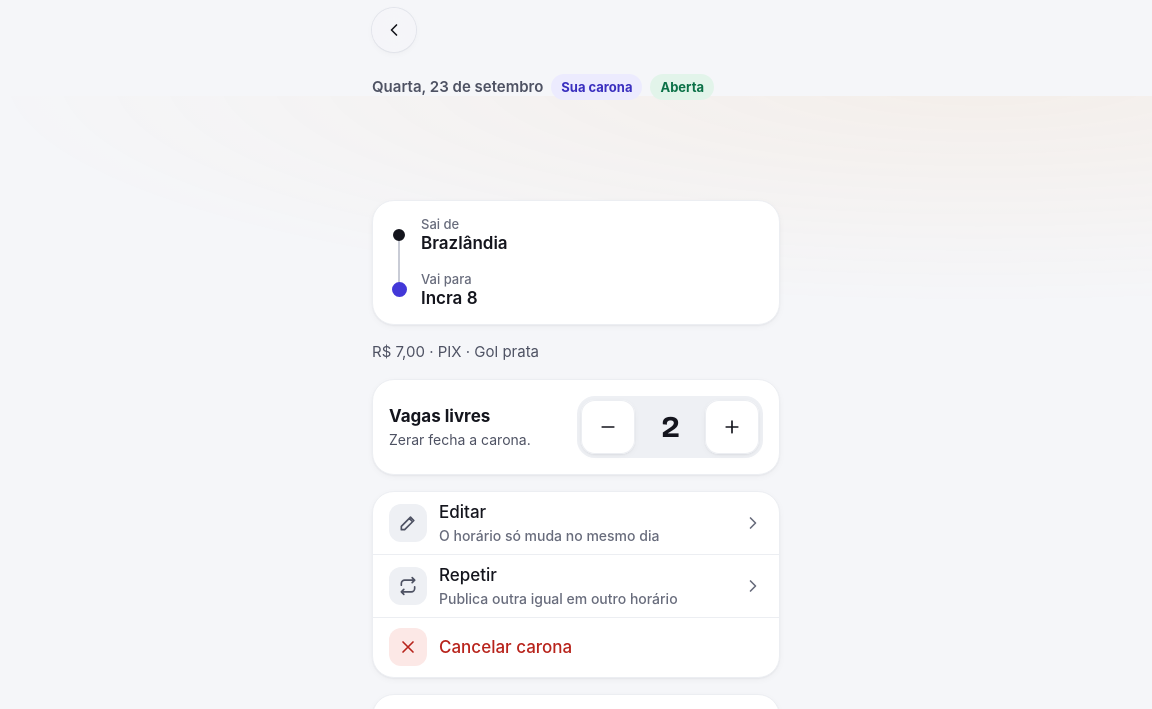
Scenario: RideDetail for the driver › a refused seat change shows why
The width and height of the screenshot is (1152, 709).
Expected: the link named "Voltar ao mural" is shown, [372,8,416,52]
Click the button named "Pôr uma vaga": point(732, 426) [705,400,759,454]
(page scrolled)
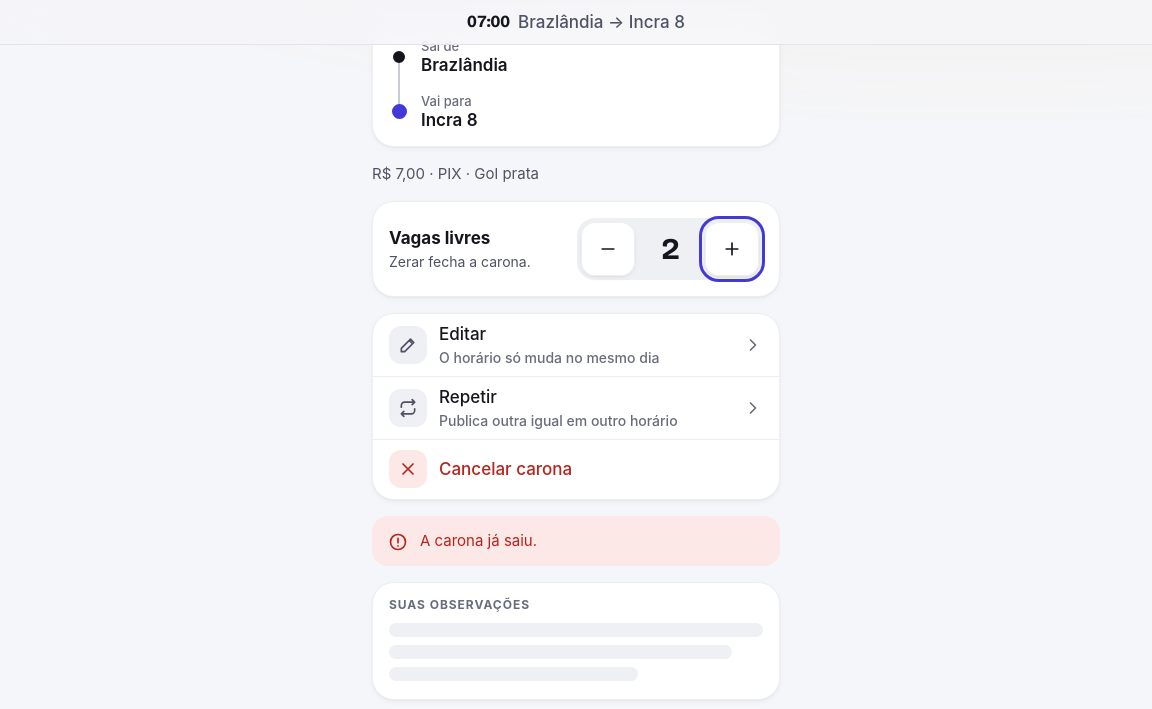
Now the message reads "A carona já saiu.", box [420,530,537,550]
